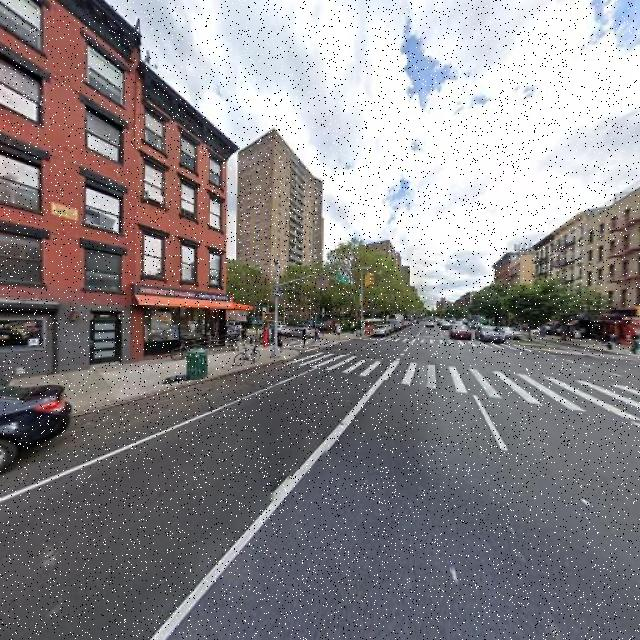Building: (1, 1, 135, 379), (140, 62, 222, 359), (589, 192, 640, 342)
